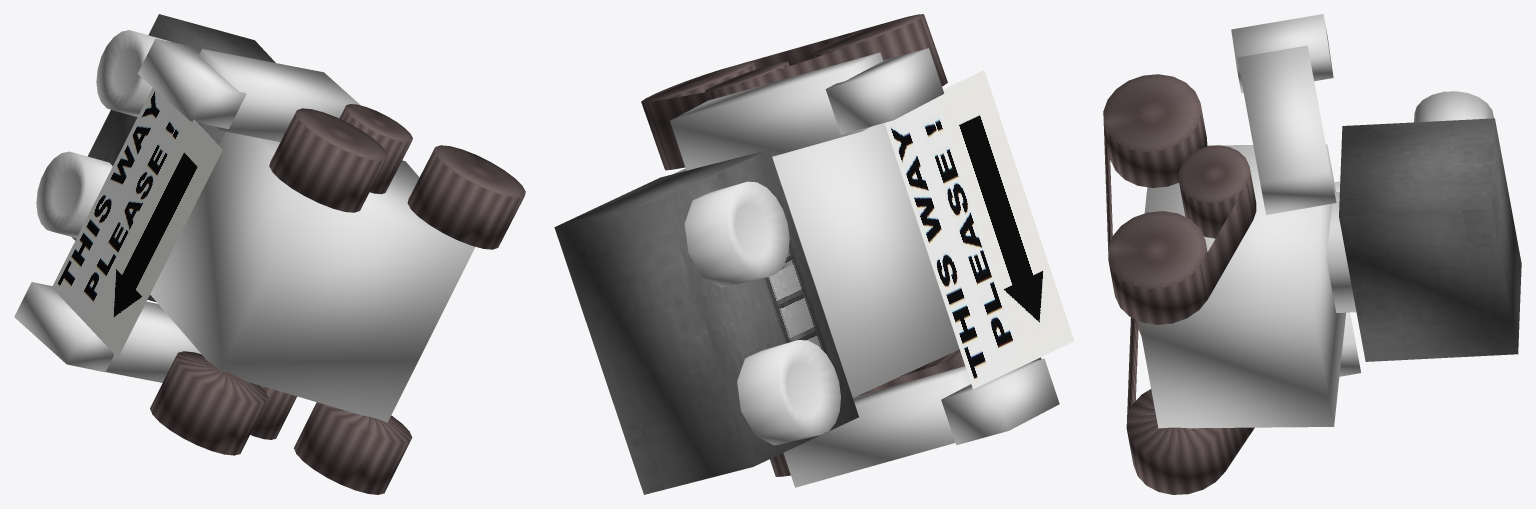
Rendered from robot_high.glb.
3 views of the same model, side by side, from view 1: azimuth 30°, elevation 25°; view 2: azimuth 150°, elevation 25°; view 3: azimuth 270°, elevation 25° (orthographic). The views are drawn at different scales.
Visible parts, largest first — view 1: ___, marsrobot1.jpg__, marsrobotsign.jpg__, marsrobot2.jpg__; view 2: ___, marsrobot2.jpg__, marsrobotsign.jpg__, marsrobot1.jpg__; view 3: ___, marsrobot2.jpg__, marsrobot1.jpg__.
Boxes of the visible parts, left/top/right/bottom form: ___: left=14, top=30, right=475, bottom=422; marsrobot1.jpg__: left=150, top=104, right=525, bottom=494; marsrobotsign.jpg__: left=52, top=87, right=222, bottom=357; marsrobot2.jpg__: left=72, top=14, right=275, bottom=302; ___: left=670, top=48, right=1059, bottom=487; marsrobot2.jpg__: left=554, top=149, right=858, bottom=494; marsrobotsign.jpg__: left=884, top=70, right=1074, bottom=389; marsrobot1.jpg__: left=641, top=14, right=1041, bottom=476; ___: left=1138, top=14, right=1493, bottom=428; marsrobot2.jpg__: left=1339, top=118, right=1521, bottom=361; marsrobot1.jpg__: left=1103, top=74, right=1256, bottom=494.
Size of the model in its own units: 5.96 by 5.99 by 5.53.
Materials: 4 (3 with a texture image).
